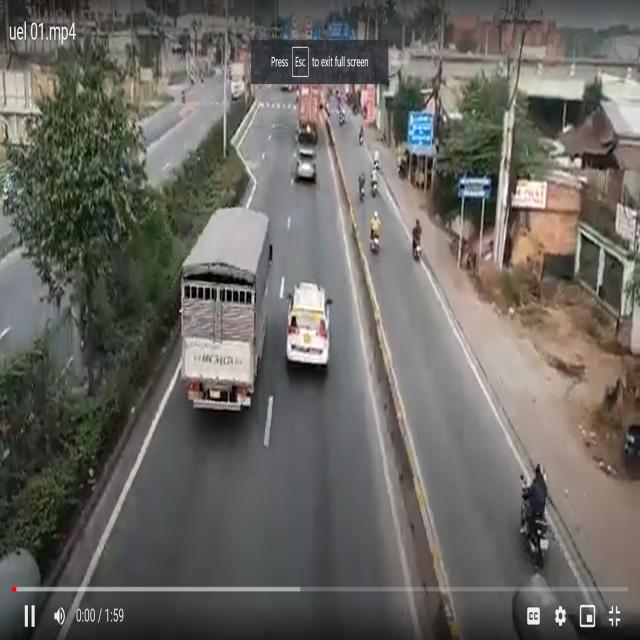car: (288, 276, 329, 370), (298, 145, 314, 194)
motorbike: (517, 480, 548, 562)
truck: (187, 204, 261, 418), (296, 84, 324, 132)
